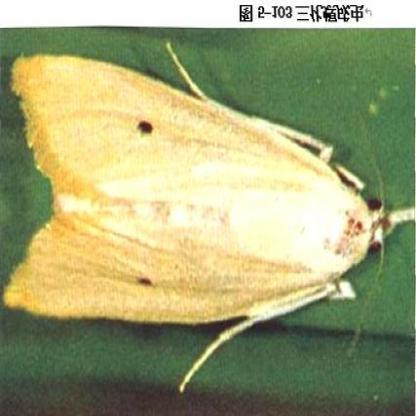stem-borer: (3, 41, 416, 396)
